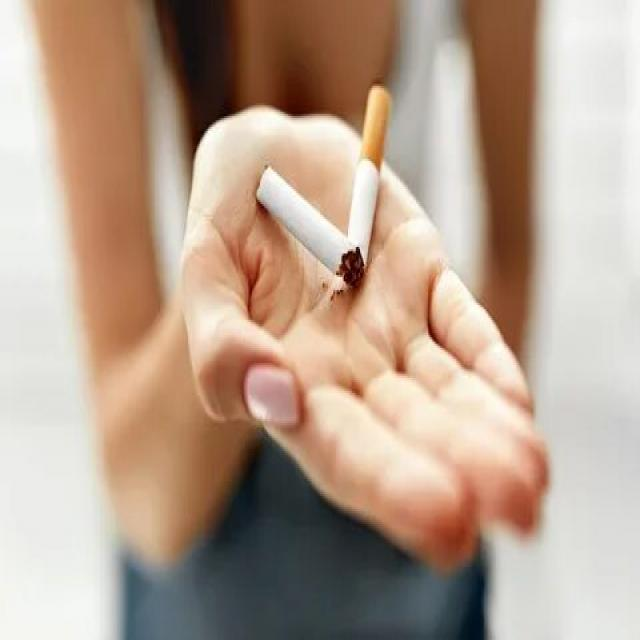smoke: (256, 77, 393, 290)
